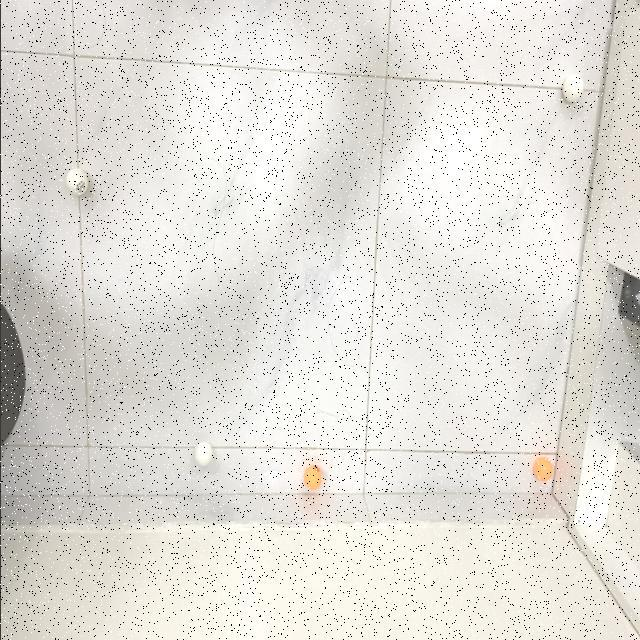ping-pong-ball: (560, 74, 584, 104), (63, 168, 87, 196), (190, 439, 212, 468), (300, 464, 322, 490), (532, 457, 554, 482)
